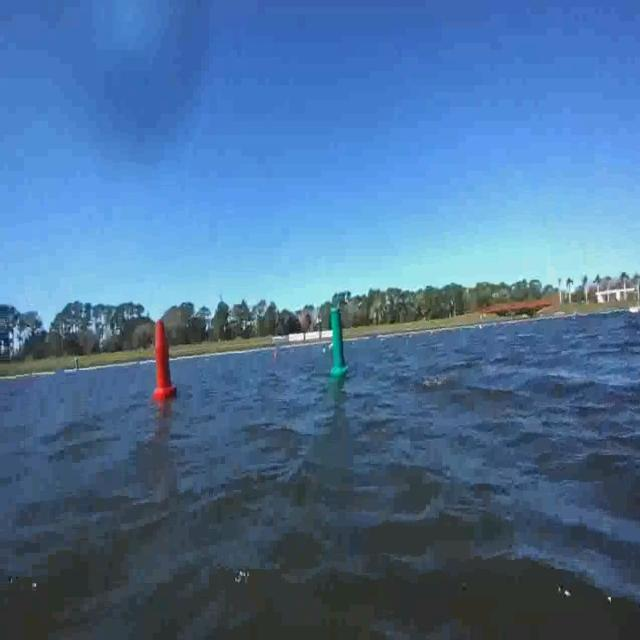green-column-buoy: (330, 308, 350, 378)
red-column-buoy: (152, 319, 176, 399)
